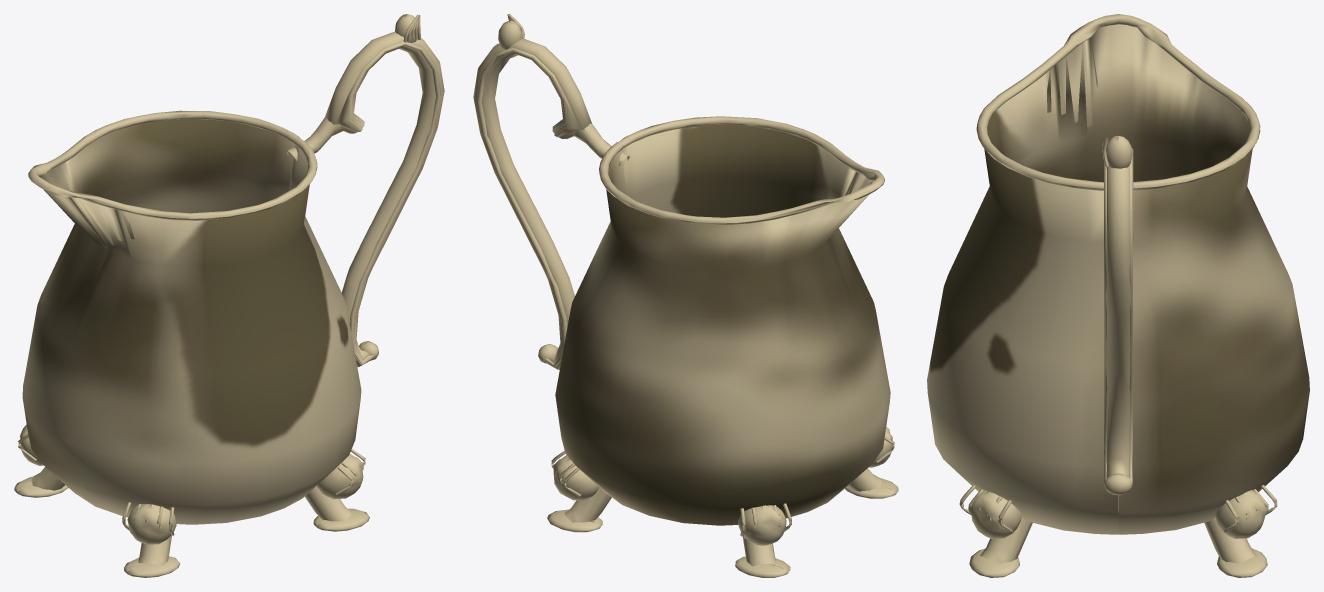
The picture shows the model from 3 angles, left to right: view 1: azimuth 30°, elevation 25°; view 2: azimuth 150°, elevation 25°; view 3: azimuth 270°, elevation 25°; orthographic projection. The views are drawn at different scales.
Parts seen in each view (by area): view 1: pitcher; view 2: pitcher; view 3: pitcher.
Boxes of the visible parts, x1,y1,x2,y2 form: pitcher: (14, 14, 444, 577); pitcher: (473, 14, 898, 577); pitcher: (927, 14, 1309, 577).
Bounding box in the file's own units: 0.2183 × 0.2265 × 0.1563.
2 materials, 1 textured.
